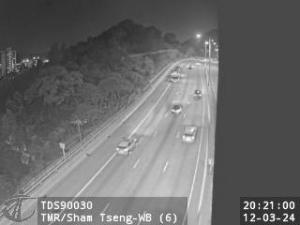bus: (172, 66, 180, 82)
vehicle: (116, 138, 138, 156), (180, 125, 200, 143), (172, 104, 182, 116), (194, 90, 204, 98), (189, 65, 193, 69)
